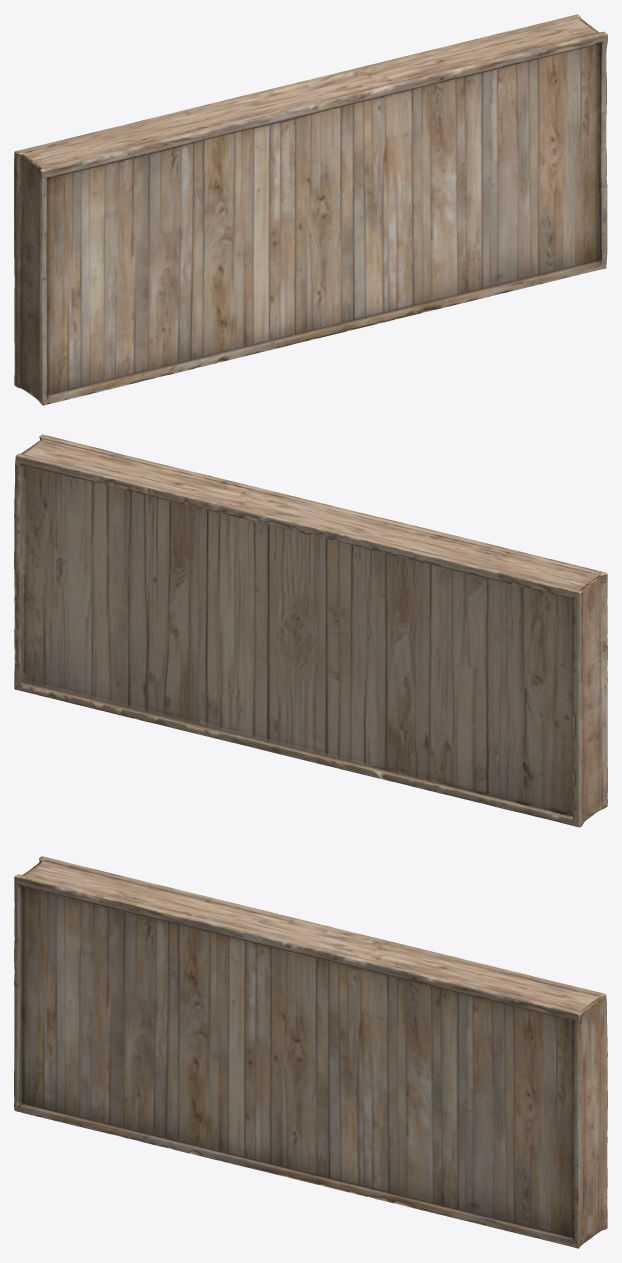
File: Meshy_AI_a_barnwood_wall_and_f_0221052433_texture.glb
3 renders of one model, top to bottom at view 1: azimuth 30°, elevation 25°; view 2: azimuth 150°, elevation 25°; view 3: azimuth 330°, elevation 25°, orthographic.
Size of the model in its own units: 2 by 0.792 by 0.1742.
Materials: 1 (1 with a texture image).
